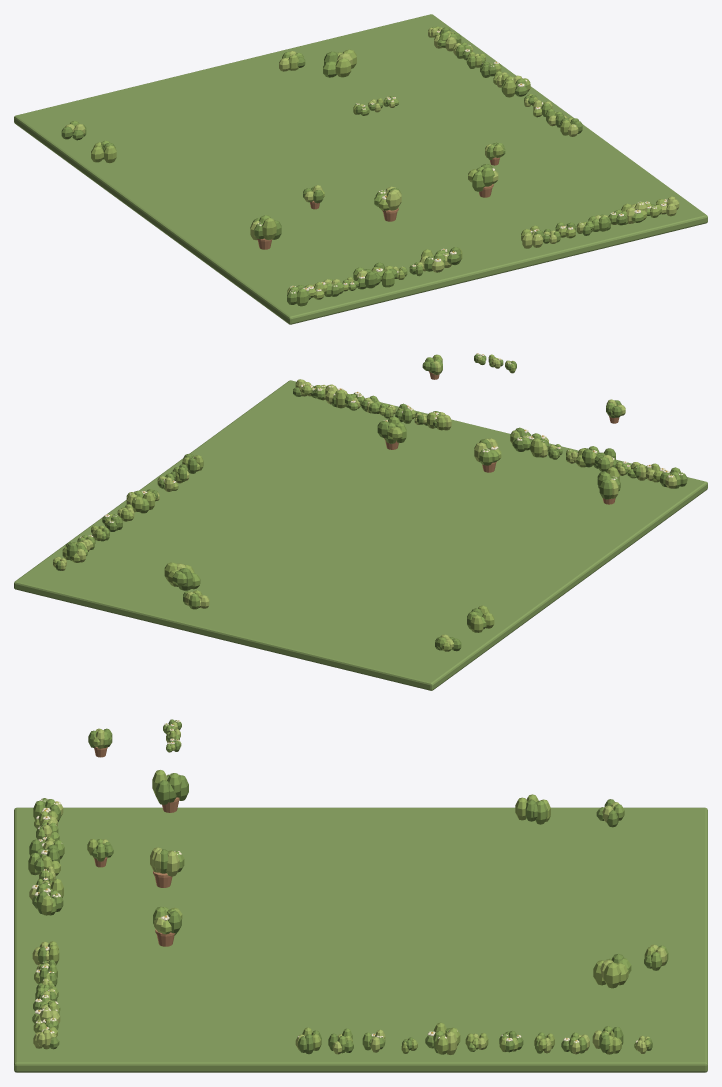
File: SM_RelaxedNeighborHouse_Garden.fbx
3 renders of one model, top to bottom at view 1: azimuth 30°, elevation 25°; view 2: azimuth 150°, elevation 25°; view 3: azimuth 270°, elevation 25°, orthographic. The views are drawn at different scales.
Parts seen in each view (by area): view 1: SM_RelaxedNeighborHouse_Garden; view 2: SM_RelaxedNeighborHouse_Garden; view 3: SM_RelaxedNeighborHouse_Garden.
Boxes of the visible parts, box(x1,y1,x2,y2) form: SM_RelaxedNeighborHouse_Garden: box(14, 14, 707, 324); SM_RelaxedNeighborHouse_Garden: box(14, 353, 707, 690); SM_RelaxedNeighborHouse_Garden: box(14, 719, 707, 1072).
Size of what is drawn, in the model's own units: 1400 by 1600 by 460.
